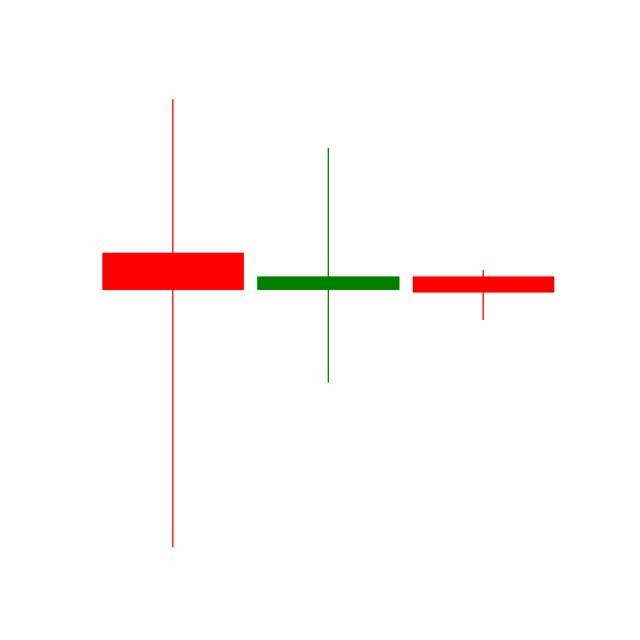Spinning Top: (249, 144, 406, 384)
